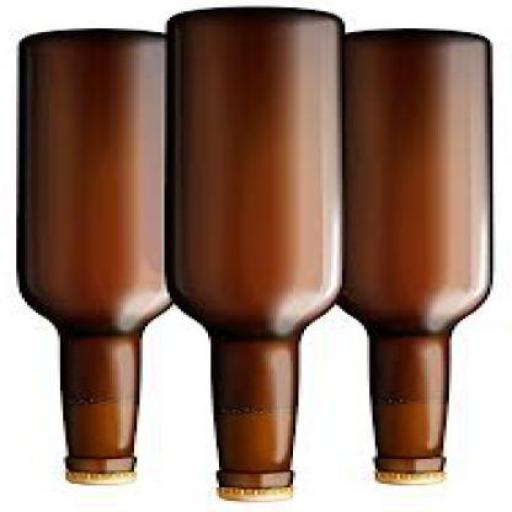glass: (166, 11, 348, 491), (18, 31, 181, 474), (334, 31, 496, 474)
metal: (68, 472, 142, 488), (381, 474, 455, 490), (224, 491, 298, 505)
